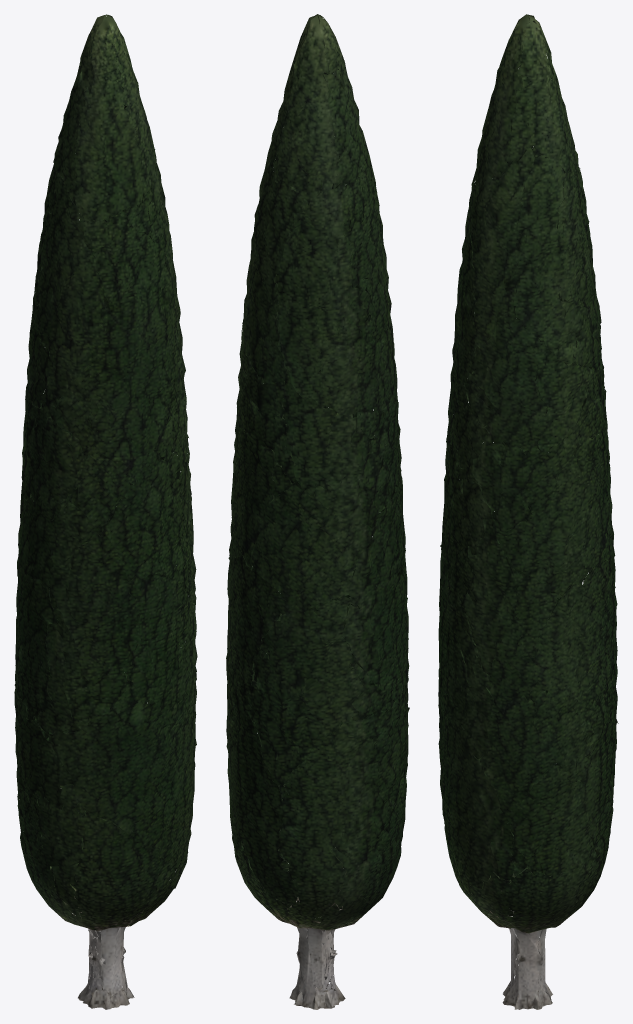
The model's file is cypress.glb.
3 renders of one model, left to right at view 1: azimuth 30°, elevation 25°; view 2: azimuth 150°, elevation 25°; view 3: azimuth 270°, elevation 25°, orthographic.
Visible parts, largest first — view 1: node_0; view 2: node_0; view 3: node_0.
Boxes of the visible parts, x1,y1,x2,y2 form: node_0: [14, 14, 197, 1009]; node_0: [226, 14, 409, 1009]; node_0: [438, 14, 618, 1009].
Size of the model in its own units: 0.3412 by 2 by 0.3318.
Materials: 1 (1 with a texture image).
